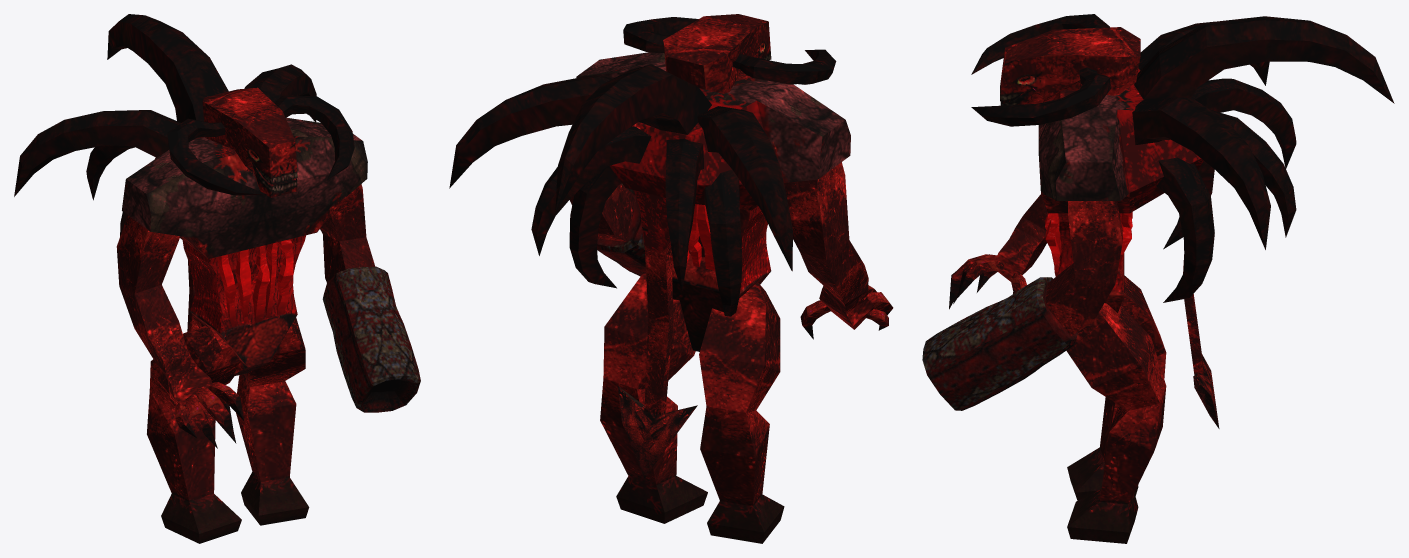
Rendered from rahovart.obj.
3 views of the same model, side by side, from view 1: azimuth 30°, elevation 25°; view 2: azimuth 150°, elevation 25°; view 3: azimuth 270°, elevation 25° (orthographic). The views are drawn at different scales.
Visible parts, largest first — view 1: Body, ArmLeft, Head, ArmRight, LegRight, LegLeft, Mouth; view 2: Body, LegRight, LegLeft, Head, ArmRight, Tail, ArmLeft; view 3: Body, ArmLeft, LegLeft, Head, ArmRight, LegRight, Tail.
Boxes of the visible parts, x1,y1,x2,y2 form: Body: (14,14,367,375); ArmLeft: (320,184,420,412); Head: (167,87,354,195); ArmRight: (116,215,243,448); LegRight: (147,326,241,543); LegLeft: (236,317,309,525); Mouth: (246,160,297,197); Body: (449,52,850,351); LegRight: (699,282,784,543); LegLeft: (600,273,707,523); Head: (623,14,836,93); ArmRight: (784,162,893,339); Tail: (617,190,697,478); ArmLeft: (570,183,645,276); Body: (1038,16,1394,312); ArmLeft: (922,201,1122,410); LegLeft: (1066,303,1166,543); Head: (971,14,1140,126); ArmRight: (949,194,1047,309); LegRight: (1067,275,1166,500); Tail: (1183,254,1219,428).
Bounding box in the file's own units: 19.12 × 26.58 × 23.21.
